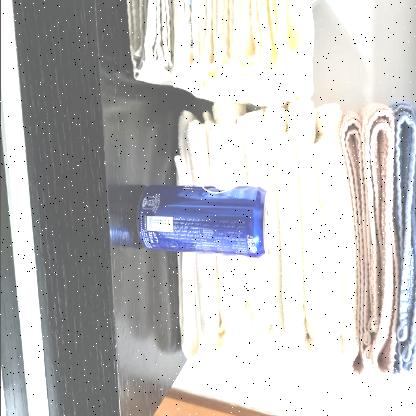Can: (134, 183, 267, 259)
